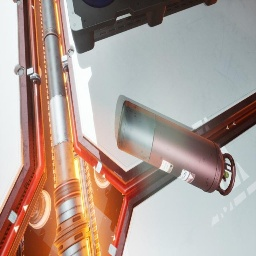NitrogenTank ,: (117, 100, 236, 196)
